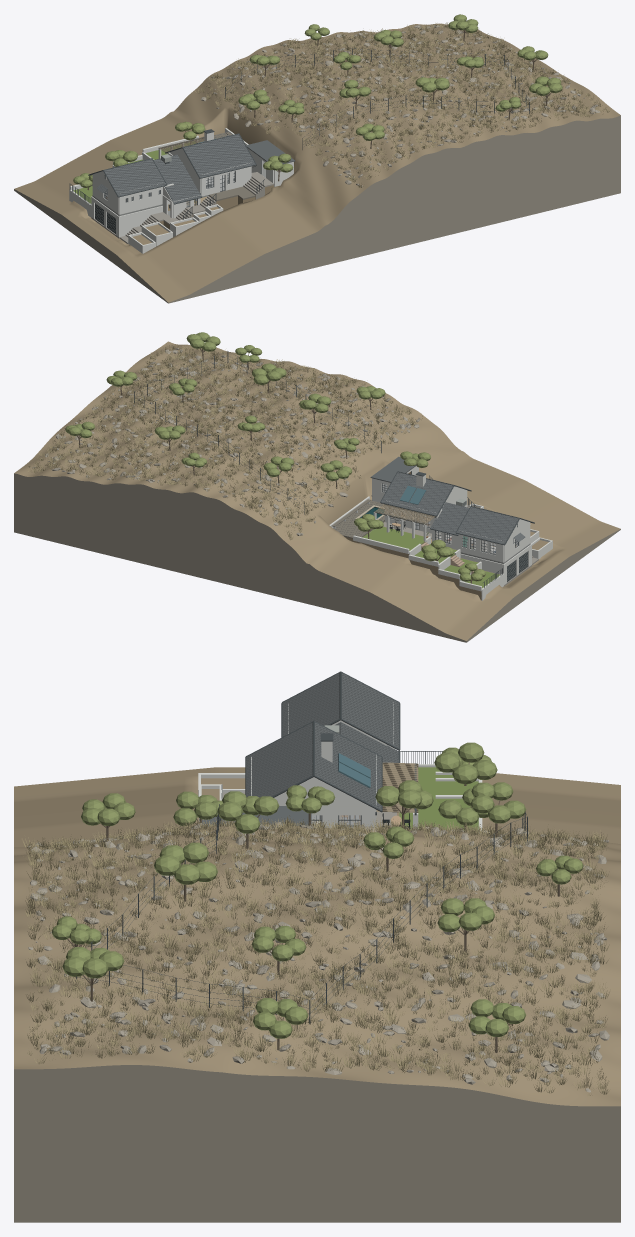
File: today.glb
3 renders of one model, top to bottom at view 1: azimuth 30°, elevation 25°; view 2: azimuth 150°, elevation 25°; view 3: azimuth 270°, elevation 25°, orthographic. The views are drawn at different scales.
Visible parts, largest first — view 1: terrain, vegetation, house, roof; view 2: terrain, vegetation, house, roof, furniture; view 3: terrain, vegetation, roof, house.
Part boxes in pixels (x1=…): terrain: x1=14, y1=23, x2=620, y2=303; vegetation: x1=73, y1=14, x2=609, y2=190; house: x1=69, y1=48, x2=529, y2=253; roof: x1=88, y1=129, x2=294, y2=204; terrain: x1=14, y1=341, x2=620, y2=642; vegetation: x1=28, y1=332, x2=485, y2=583; house: x1=134, y1=351, x2=552, y2=600; roof: x1=370, y1=456, x2=534, y2=545; furniture: x1=381, y1=510, x2=516, y2=554; terrain: x1=14, y1=767, x2=620, y2=1222; vegetation: x1=22, y1=742, x2=609, y2=1095; roof: x1=202, y1=671, x2=418, y2=826; house: x1=75, y1=702, x2=527, y2=1024.
Bounding box in the file's own units: 66 × 16.5 × 39.
